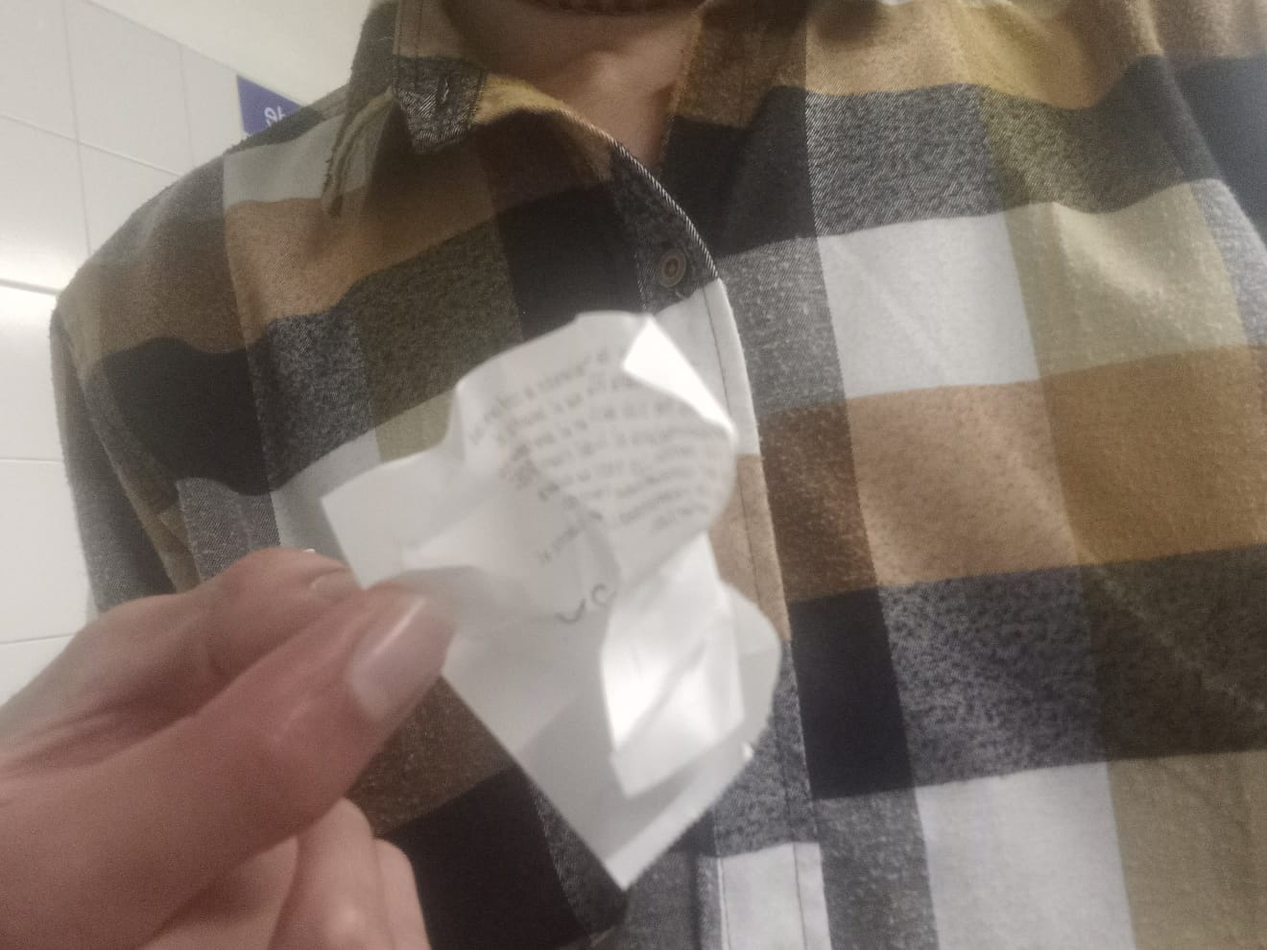Papel: (315, 309, 783, 894)
